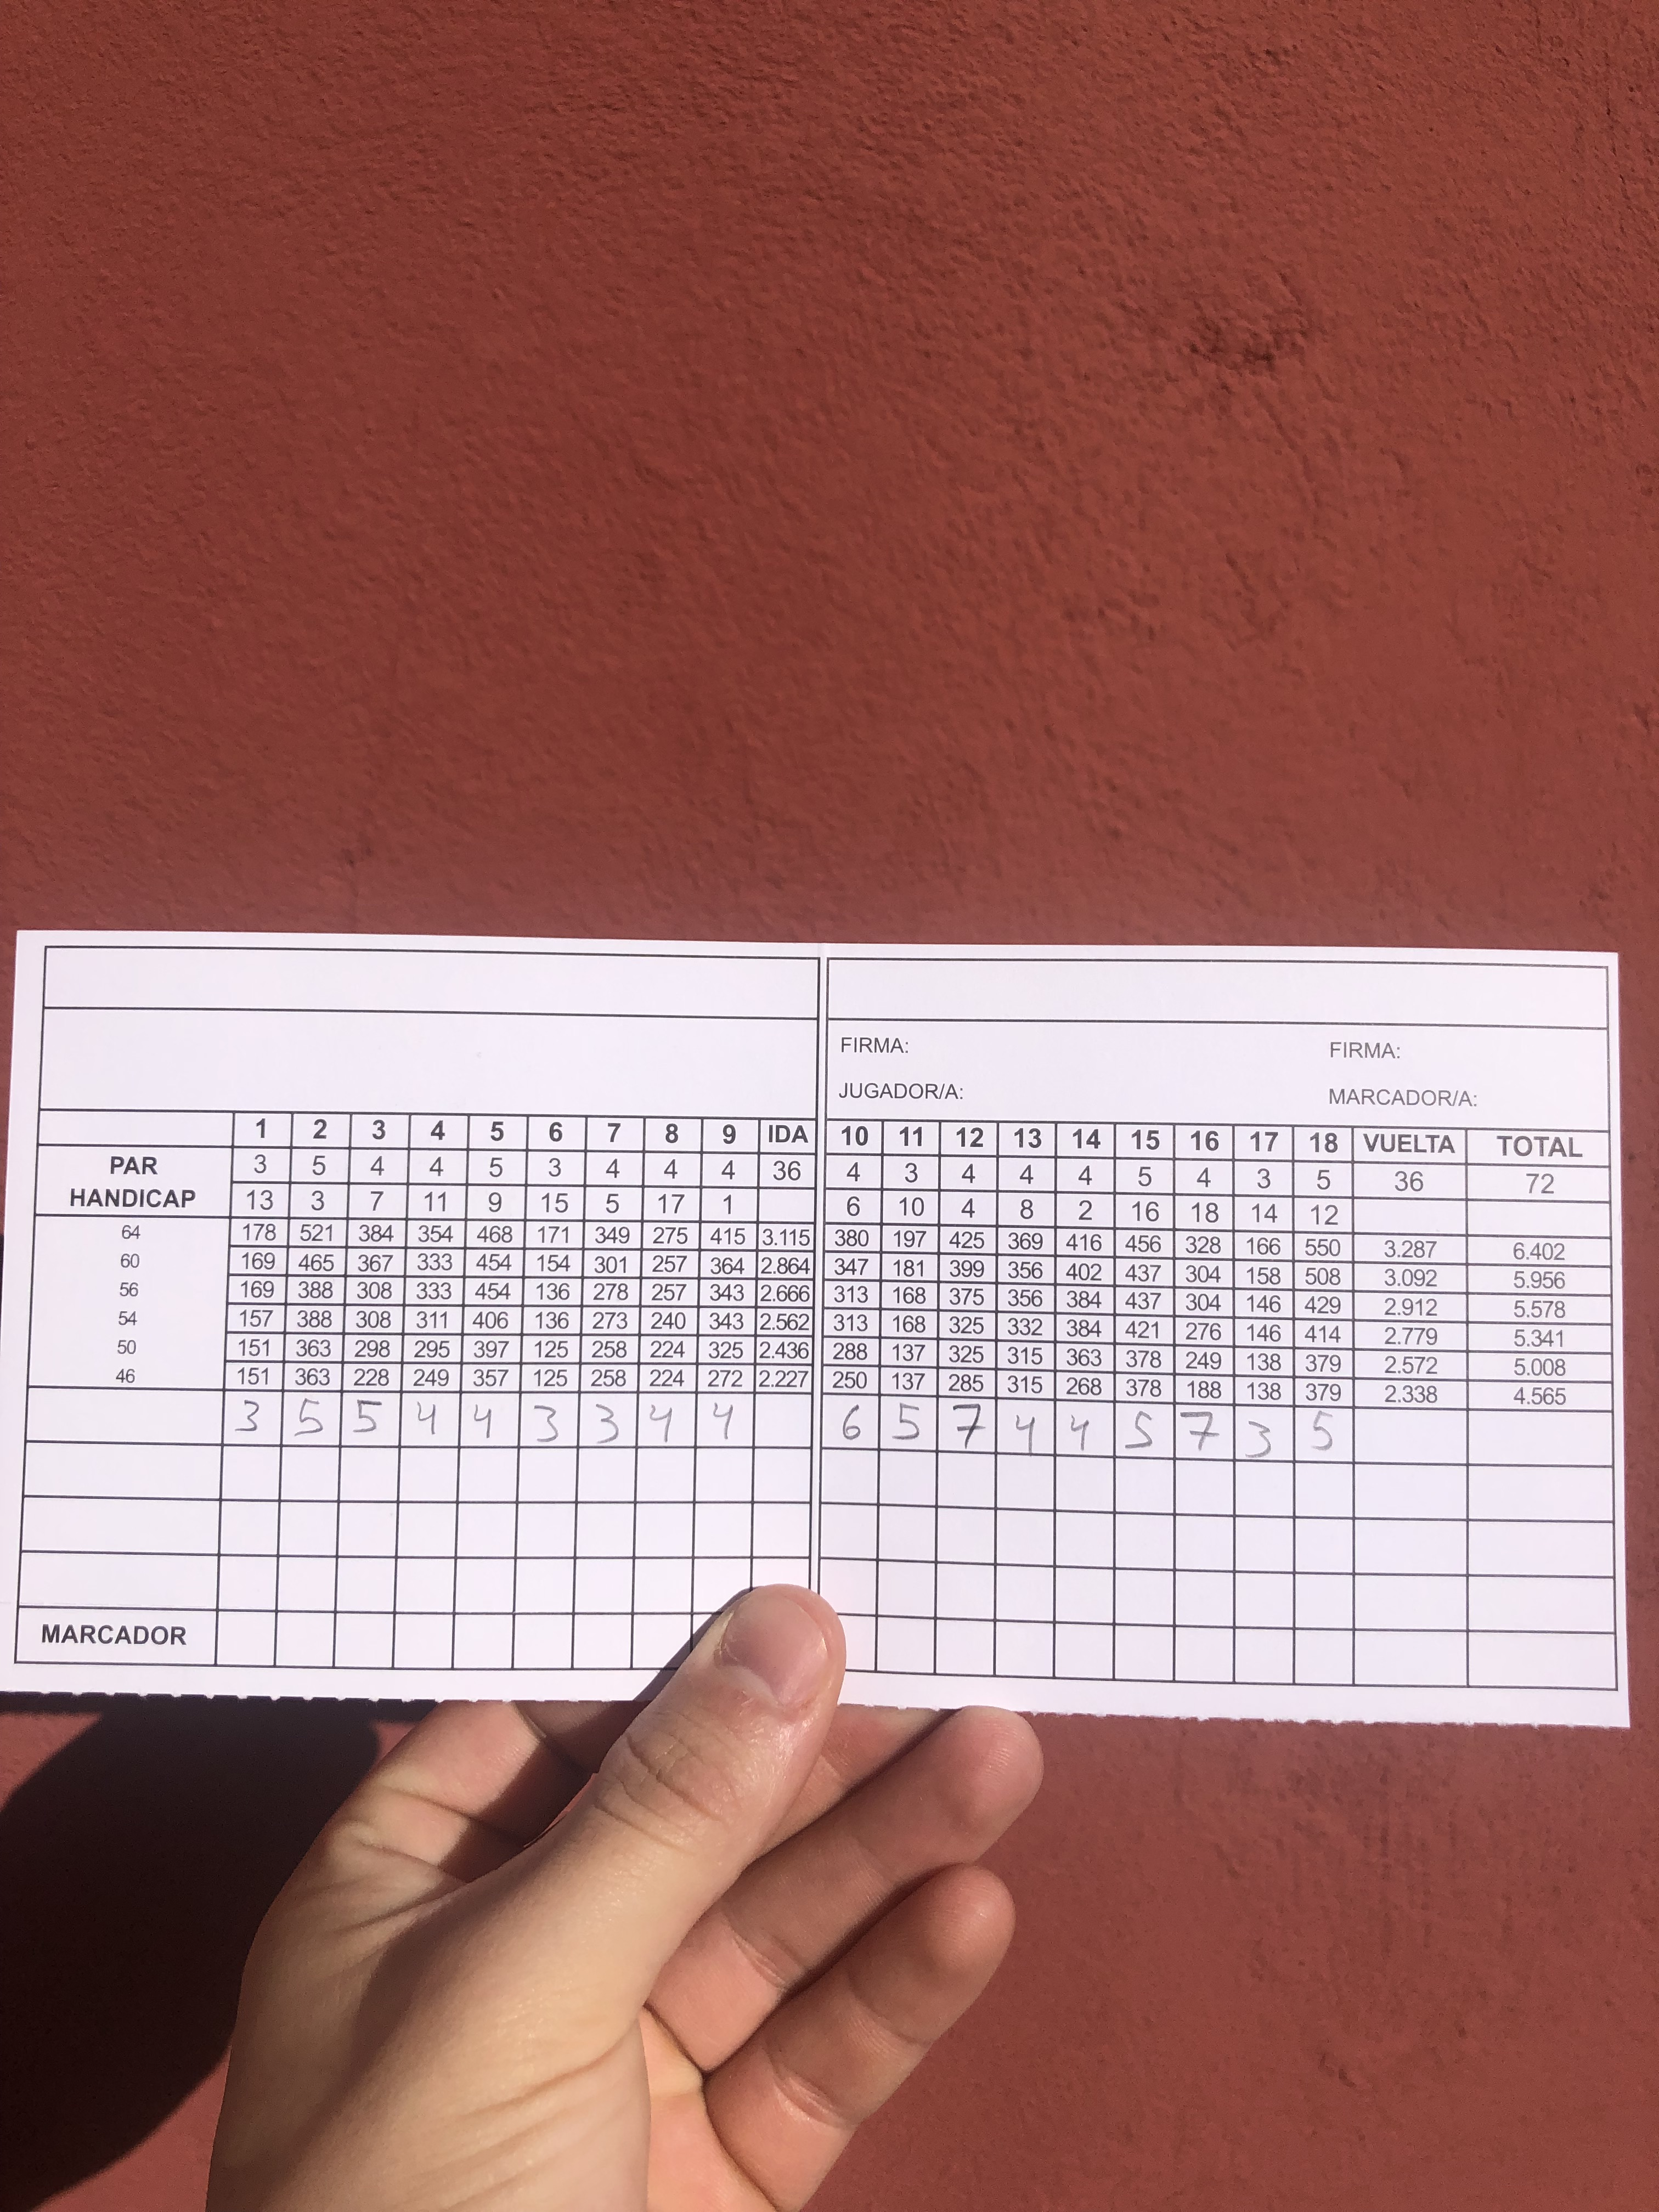par: (108, 1151, 1565, 1200)
score: (230, 1395, 1340, 1461)
